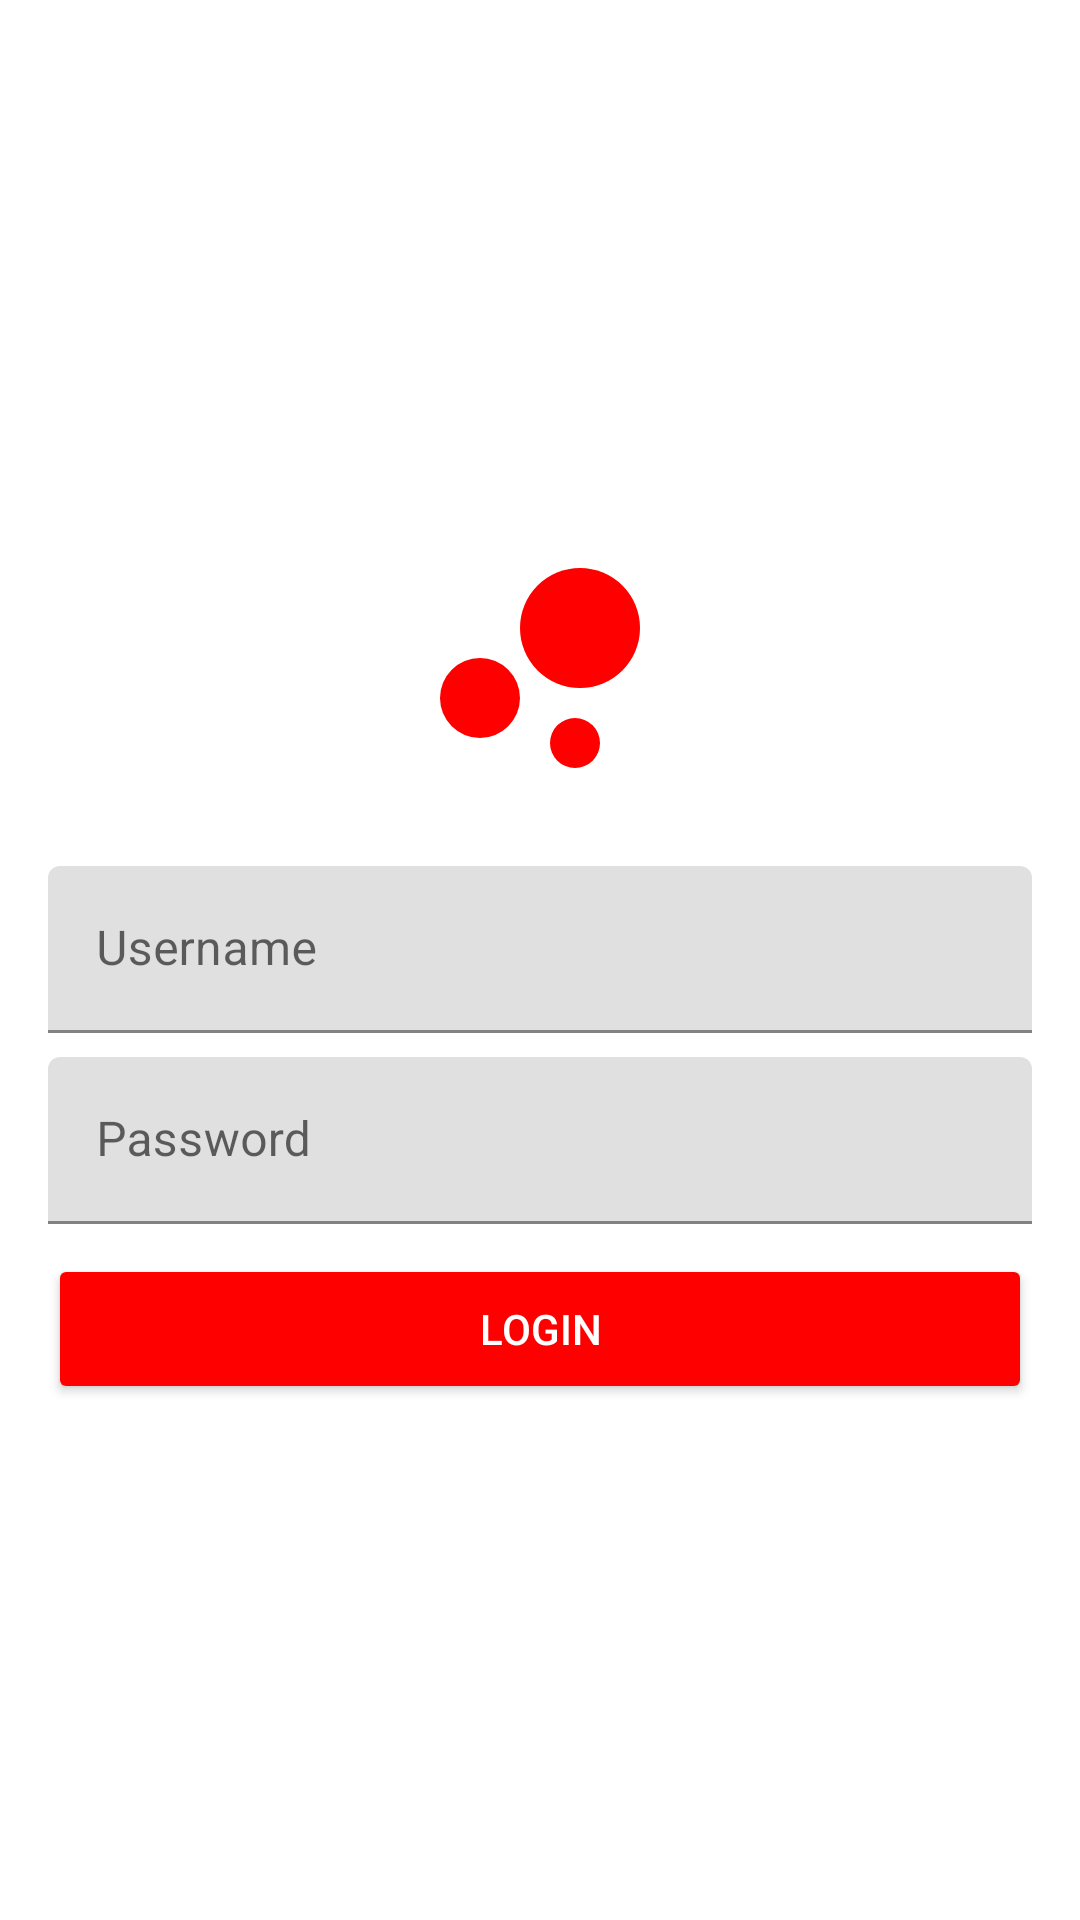

Icon bounding boxes for this 1080 × 1920 phone screenshot, format (x1, y1, x2, y2):
bubble chart: (440, 568, 640, 768)
